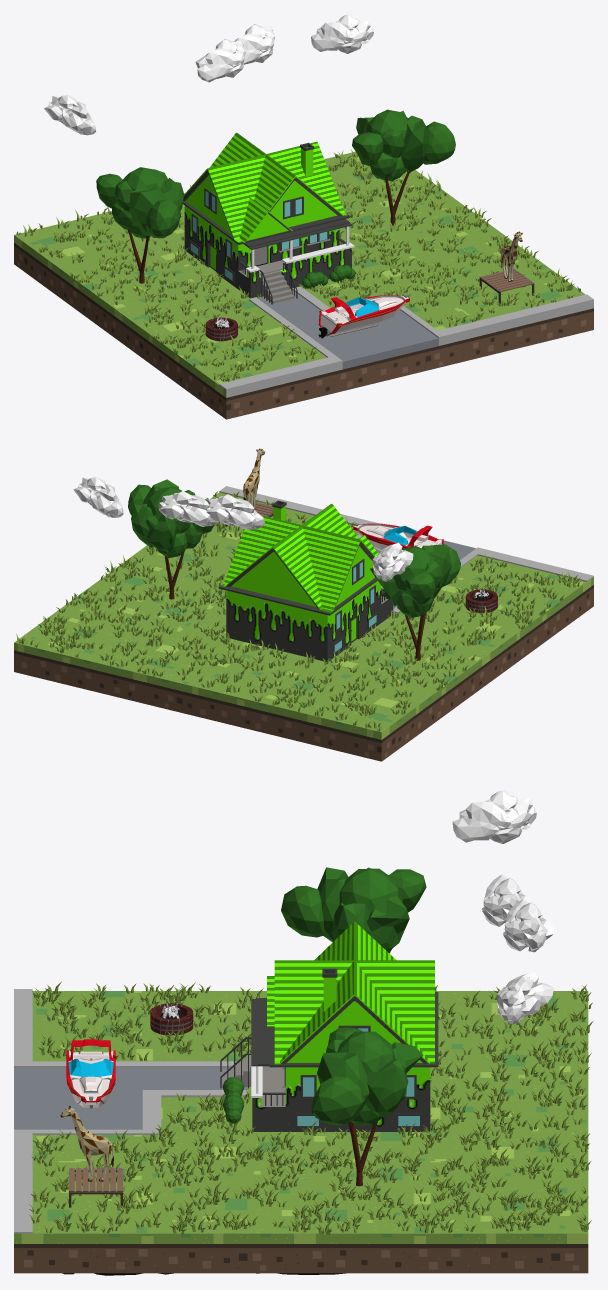
3 renders of one model, top to bottom at view 1: azimuth 30°, elevation 25°; view 2: azimuth 150°, elevation 25°; view 3: azimuth 270°, elevation 25°, orthographic. The views are drawn at different scales.
Visible parts, largest first — view 1: Cube.006, Cube.754, Circle.012_Grass_0.192, Cube.007, tree, tree.001, VEHICLES_BOAT, Cube.009, OBJRANDOM_CAMPFIRE, ANIMAL_JIRAFA; view 2: Cube.006, Cube.754, Circle.012_Grass_0.192, Cube.007, tree.001, tree, VEHICLES_BOAT, OBJRANDOM_CAMPFIRE, ANIMAL_JIRAFA; view 3: Cube.006, Circle.012_Grass_0.192, Cube.754, tree, Cube.007, tree.001, VEHICLES_BOAT, Cube.009, ANIMAL_JIRAFA, OBJRANDOM_CAMPFIRE.
Boxes of the visible parts, x1=… form: Cube.006: x1=14, y1=151, x2=593, y2=419; Cube.754: x1=183, y1=132, x2=354, y2=304; Circle.012_Grass_0.192: x1=16, y1=149, x2=580, y2=381; Cube.007: x1=44, y1=14, x2=373, y2=135; tree: x1=352, y1=109, x2=455, y2=225; tree.001: x1=96, y1=167, x2=184, y2=283; VEHICLES_BOAT: x1=318, y1=294, x2=409, y2=338; Cube.009: x1=479, y1=268, x2=534, y2=303; OBJRANDOM_CAMPFIRE: x1=205, y1=316, x2=237, y2=341; ANIMAL_JIRAFA: x1=501, y1=231, x2=522, y2=281; Cube.006: x1=14, y1=486, x2=593, y2=761; Cube.754: x1=218, y1=500, x2=393, y2=661; Circle.012_Grass_0.192: x1=16, y1=491, x2=580, y2=731; Cube.007: x1=73, y1=476, x2=413, y2=581; tree.001: x1=370, y1=544, x2=460, y2=660; tree: x1=128, y1=479, x2=214, y2=599; VEHICLES_BOAT: x1=353, y1=523, x2=443, y2=550; OBJRANDOM_CAMPFIRE: x1=465, y1=588, x2=497, y2=613; ANIMAL_JIRAFA: x1=243, y1=448, x2=265, y2=509; Cube.006: x1=14, y1=989, x2=588, y2=1273; Circle.012_Grass_0.192: x1=29, y1=981, x2=593, y2=1234; Cube.754: x1=220, y1=922, x2=438, y2=1131; tree: x1=311, y1=1027, x2=423, y2=1186; Cube.007: x1=452, y1=790, x2=553, y2=1024; tree.001: x1=281, y1=867, x2=426, y2=953; VEHICLES_BOAT: x1=66, y1=1039, x2=115, y2=1108; Cube.009: x1=69, y1=1167, x2=122, y2=1207; ANIMAL_JIRAFA: x1=60, y1=1106, x2=113, y2=1181; OBJRANDOM_CAMPFIRE: x1=150, y1=1001, x2=193, y2=1035.
Size of the model in its own units: 4071 by 2149 by 4040.
34 materials, 4 textured.
